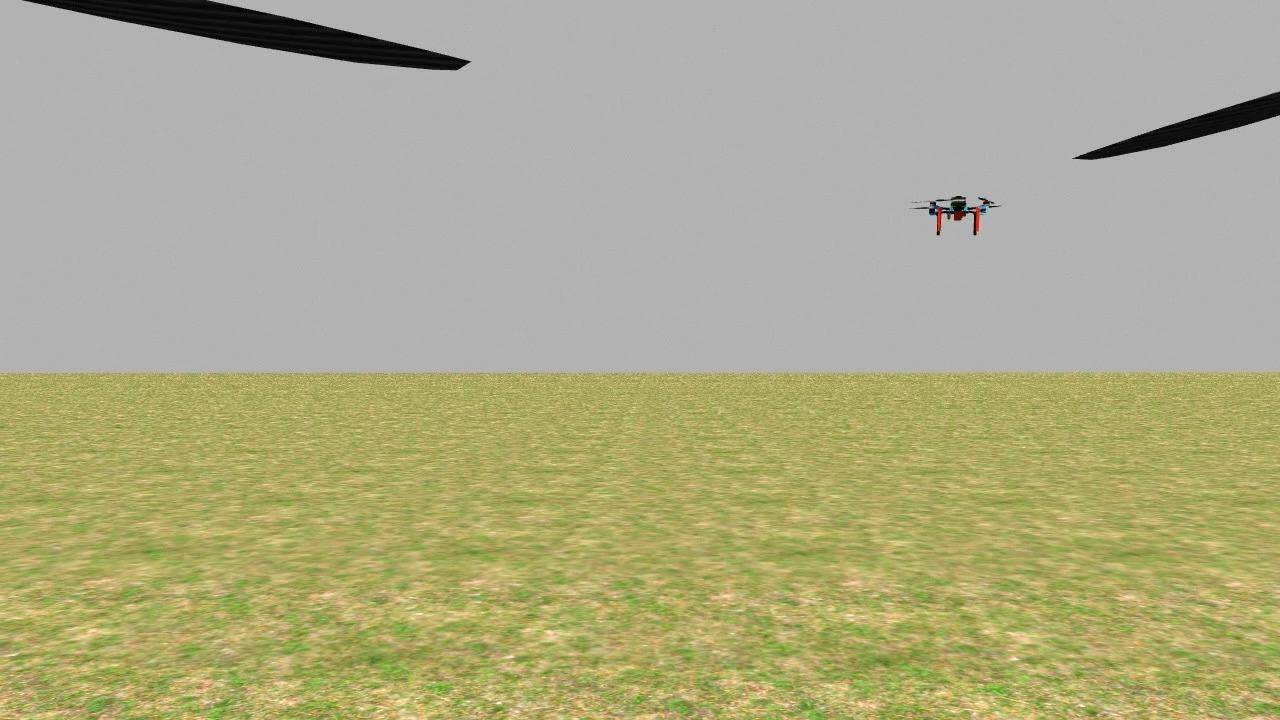UAV: (918, 188, 1001, 239)
